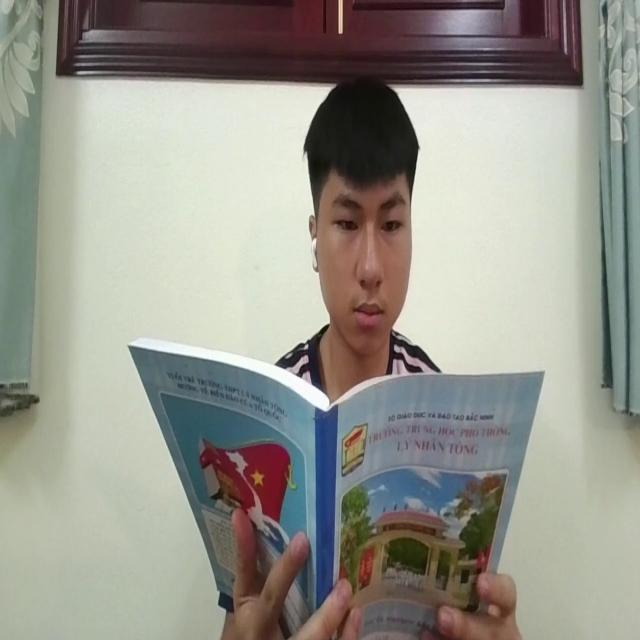book: (122, 337, 544, 640)
student: (253, 71, 450, 372)
